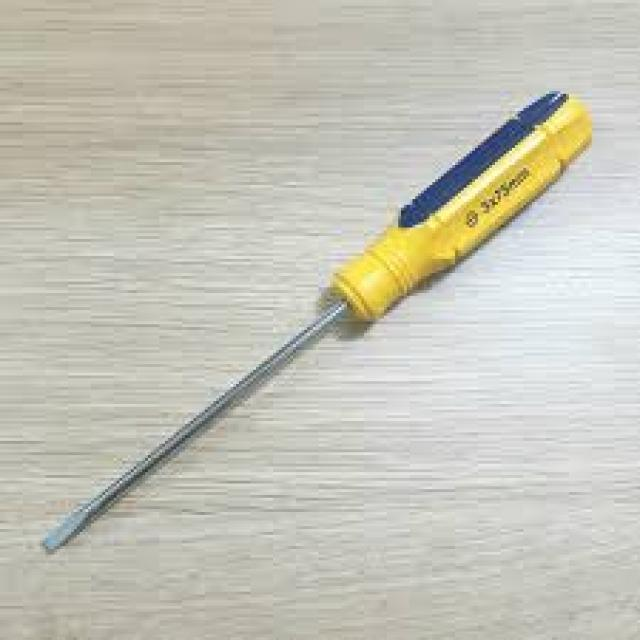screwdriver: (34, 85, 597, 555)
